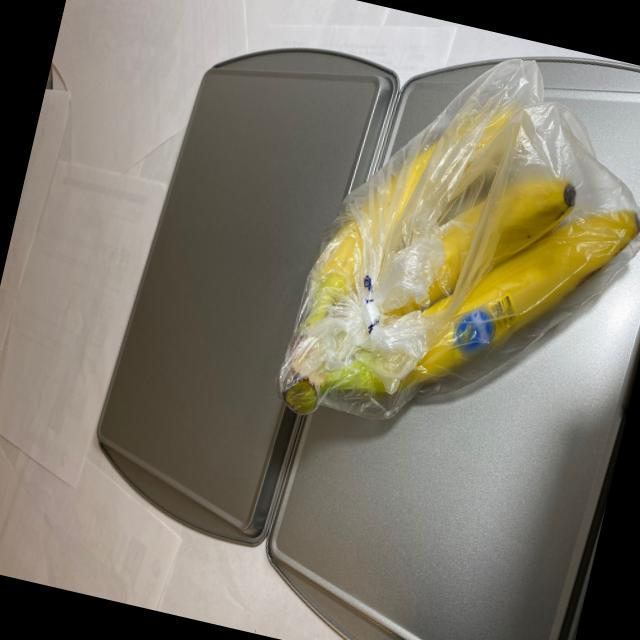banana: (264, 40, 640, 494)
